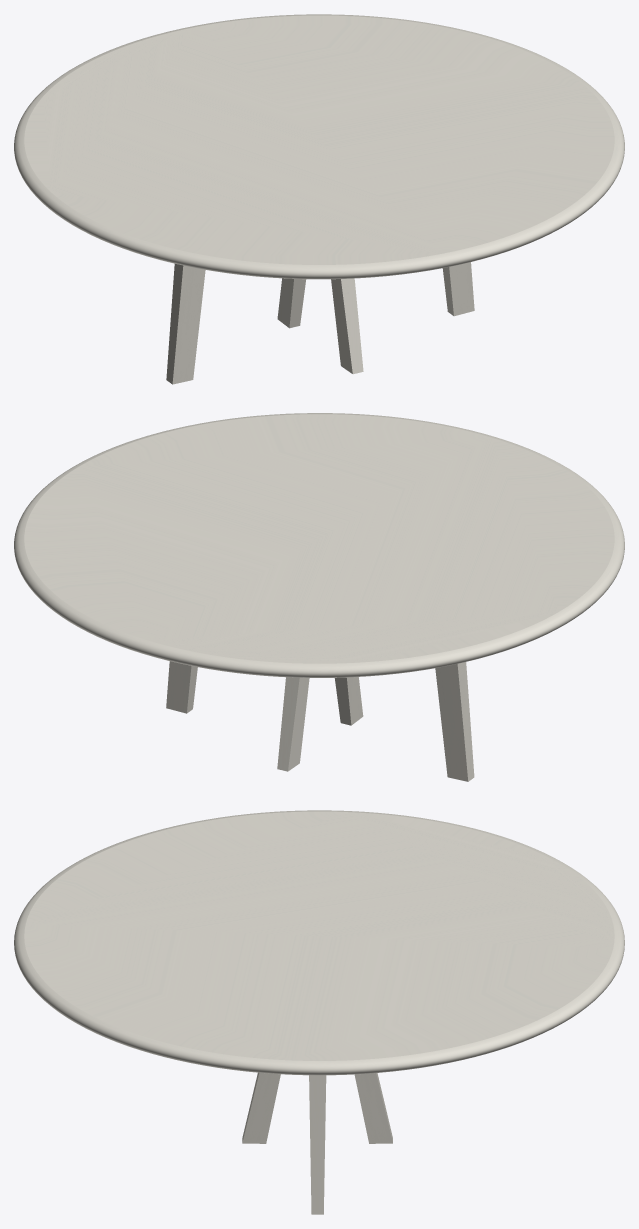
The model's file is pale_round_round_searwalnut.glb.
3 renders of one model, top to bottom at view 1: azimuth 30°, elevation 25°; view 2: azimuth 150°, elevation 25°; view 3: azimuth 270°, elevation 25°, orthographic.
Parts seen in each view (by area): view 1: round_round, searwalnut; view 2: round_round, searwalnut; view 3: round_round, searwalnut.
Part boxes in pixels (left/top/right/bottom): round_round: left=14, top=14, right=624, bottom=279; searwalnut: left=166, top=262, right=474, bottom=384; round_round: left=14, top=413, right=624, bottom=677; searwalnut: left=166, top=661, right=474, bottom=781; round_round: left=14, top=810, right=624, bottom=1075; searwalnut: left=242, top=1072, right=392, bottom=1214.
Size of the model in its own units: 6.75 by 2.5 by 6.75.
1 material, 1 textured.
